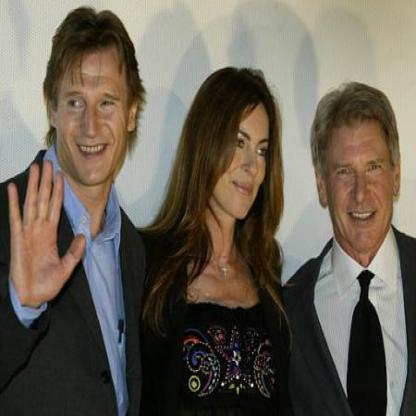face: (57, 19, 131, 189), (324, 91, 395, 255), (209, 80, 278, 223)
